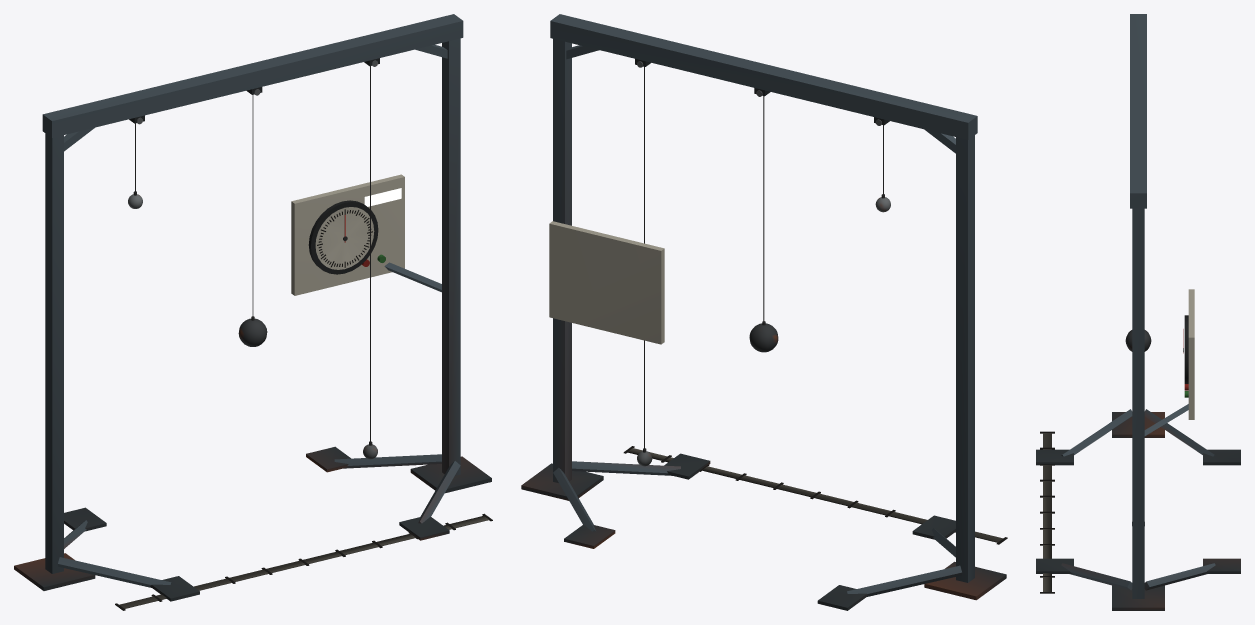
The model's file is pendulum-frame.glb.
The picture shows the model from 3 angles, left to right: view 1: azimuth 30°, elevation 25°; view 2: azimuth 150°, elevation 25°; view 3: azimuth 270°, elevation 25°; orthographic projection. The views are drawn at different scales.
Parts seen in each view (by area): view 1: frame, cord-medium-heavy; view 2: frame, cord-medium-heavy; view 3: frame.
Boxes of the visible parts, box(x1,y1,x2,y2) form: frame: box(14, 14, 492, 610); cord-medium-heavy: box(238, 318, 267, 346); frame: box(521, 14, 1007, 610); cord-medium-heavy: box(749, 323, 778, 352); frame: box(1036, 14, 1240, 610).
Bounding box in the file's own units: 6.1 × 6.02 × 2.7.
